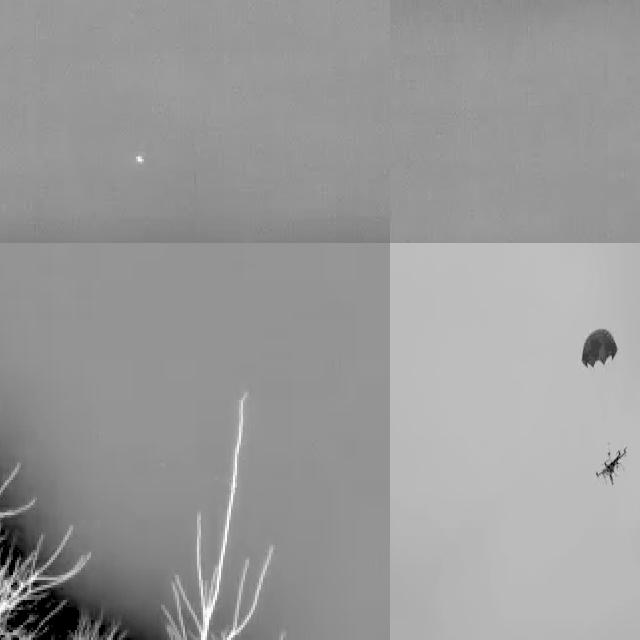0: (228, 477, 246, 495)
1: (129, 147, 159, 179)
drone: (596, 445, 628, 485)
